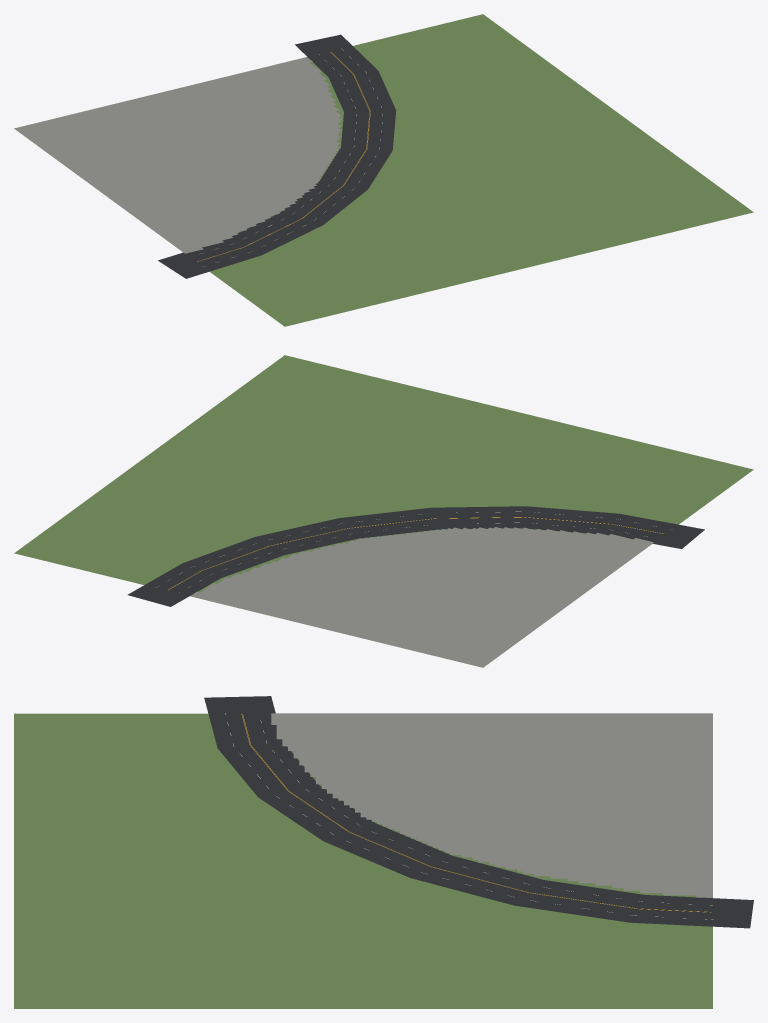
Rendered from Ground_7_0.fbx.
3 renders of one model, top to bottom at view 1: azimuth 30°, elevation 25°; view 2: azimuth 150°, elevation 25°; view 3: azimuth 270°, elevation 25°, orthographic. The views are drawn at different scales.
Parts seen in each view (by area): view 1: Ground_7_0; view 2: Ground_7_0; view 3: Ground_7_0.
Boxes of the visible parts, left/top/right/bottom form: Ground_7_0: left=14, top=14, right=753, bottom=326; Ground_7_0: left=14, top=355, right=753, bottom=667; Ground_7_0: left=14, top=696, right=753, bottom=1008.
Bounding box in the file's own units: 265 × 0.08 × 265.
